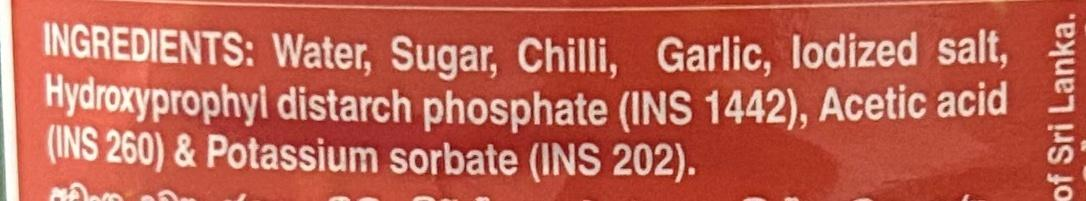ingredients: (30, 8, 1052, 195)
